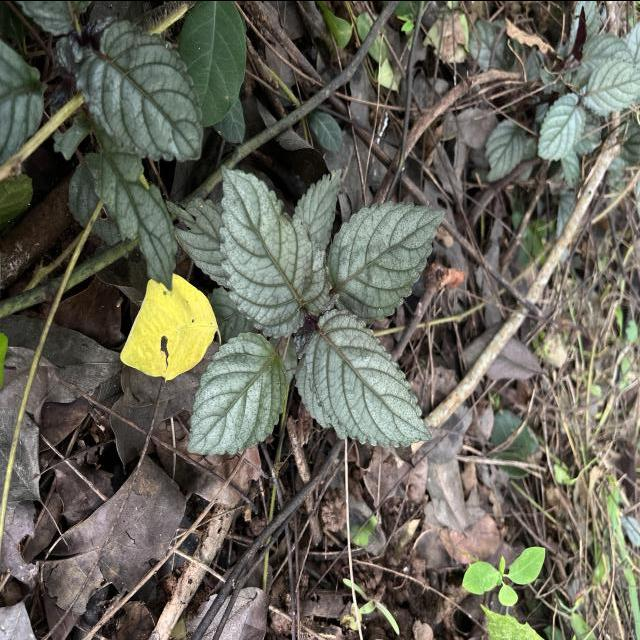Hemigraphis colorata: (218, 160, 332, 340), (74, 16, 205, 162), (301, 306, 434, 449), (325, 196, 447, 324), (185, 329, 289, 456), (292, 163, 344, 250)
